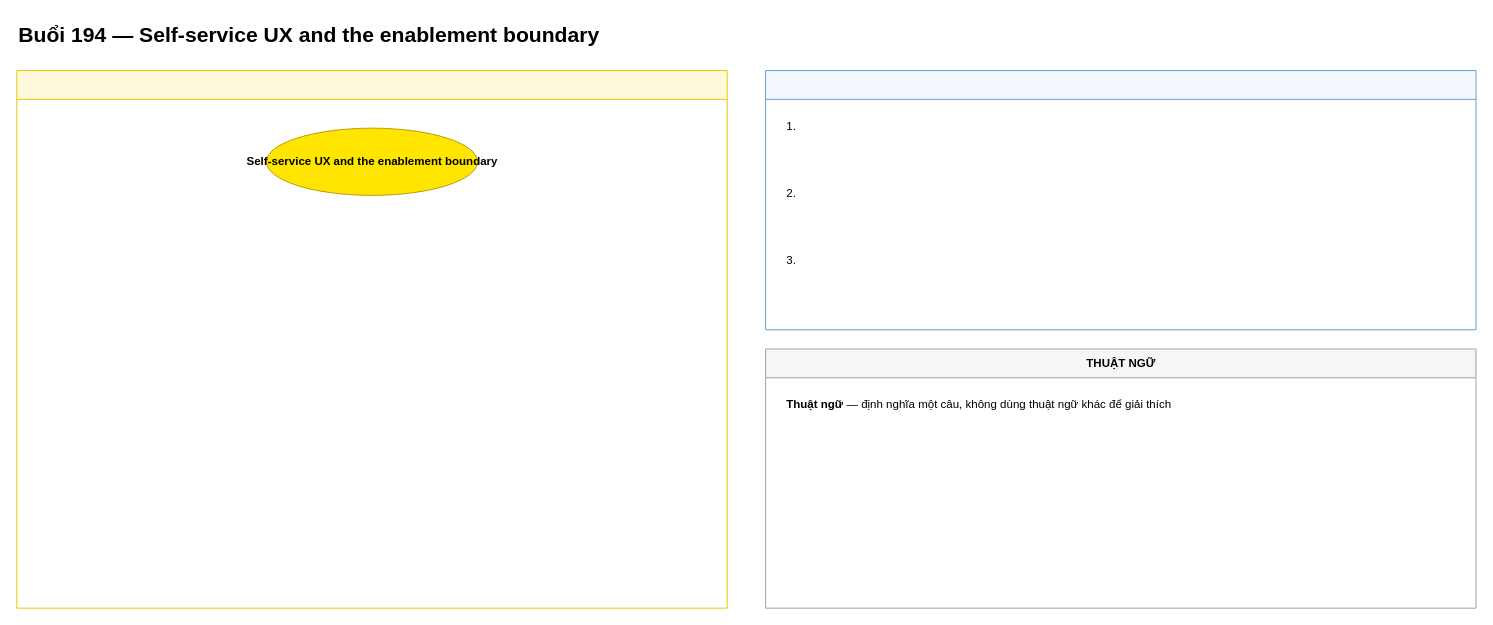
Image size: 1493x625. Some labels were removed from this diagram. Here are the shapes that lost their labels. From the top down, the box of each, then its label:
(765, 70, 1476, 330): KEY TAKEAWAY — ba điều phải nhớ
(16, 70, 727, 608): MINDMAP
